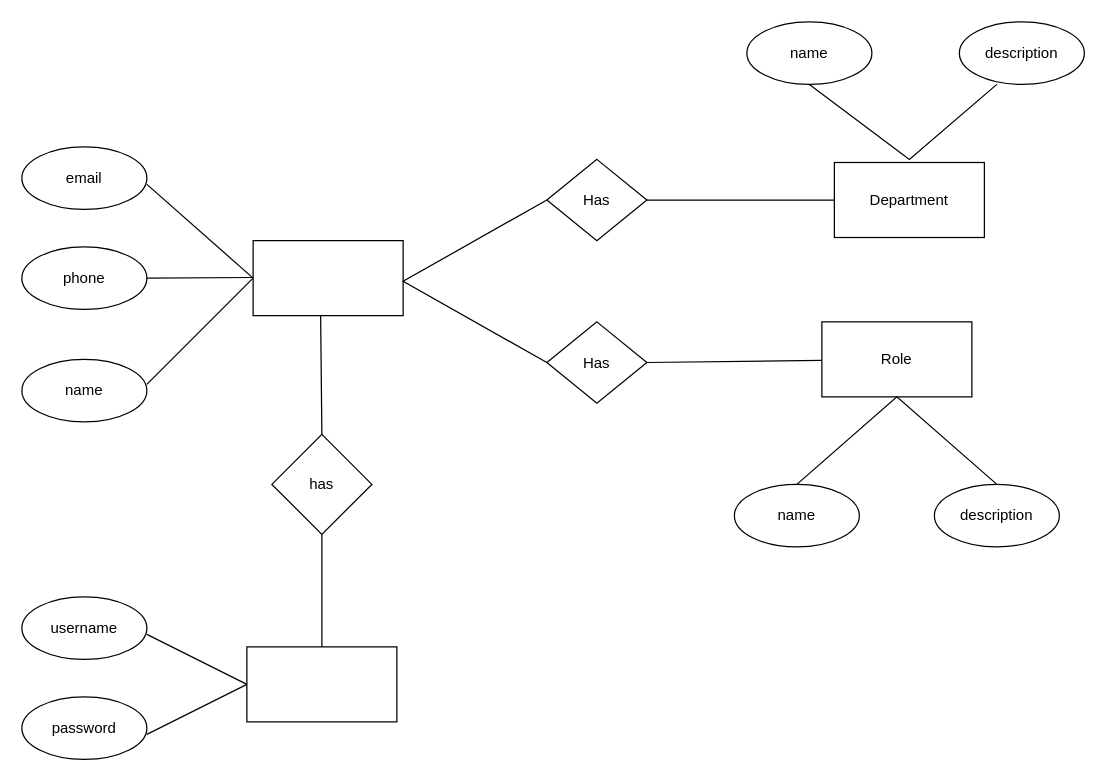
The diagram is 1106 pixels wide and 781 high, and some of its shapes have lost their labels. Each missing label, with the centre of its shape:
Employee: pixel 327 277
Login: pixel 321 684
